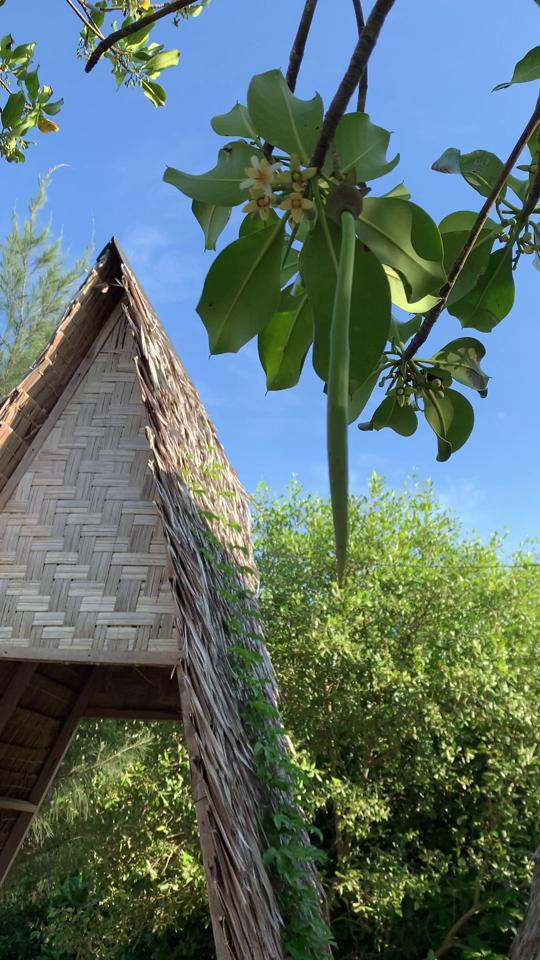mentah: (319, 163, 378, 596)
